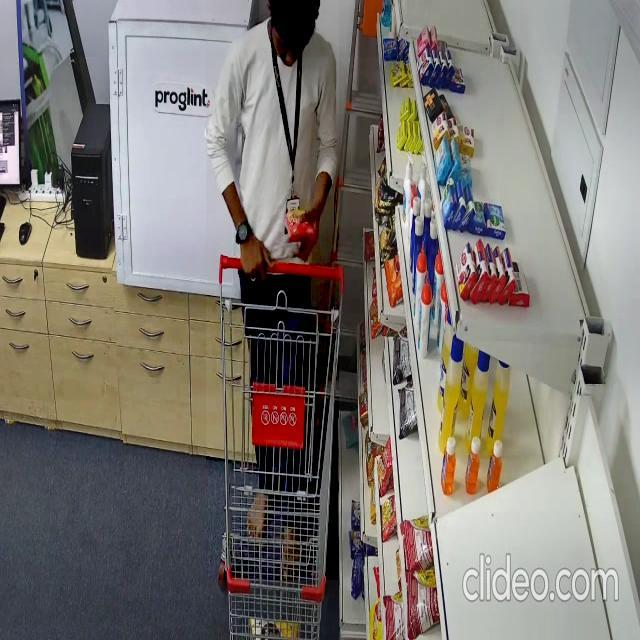normal: (206, 0, 339, 580)
